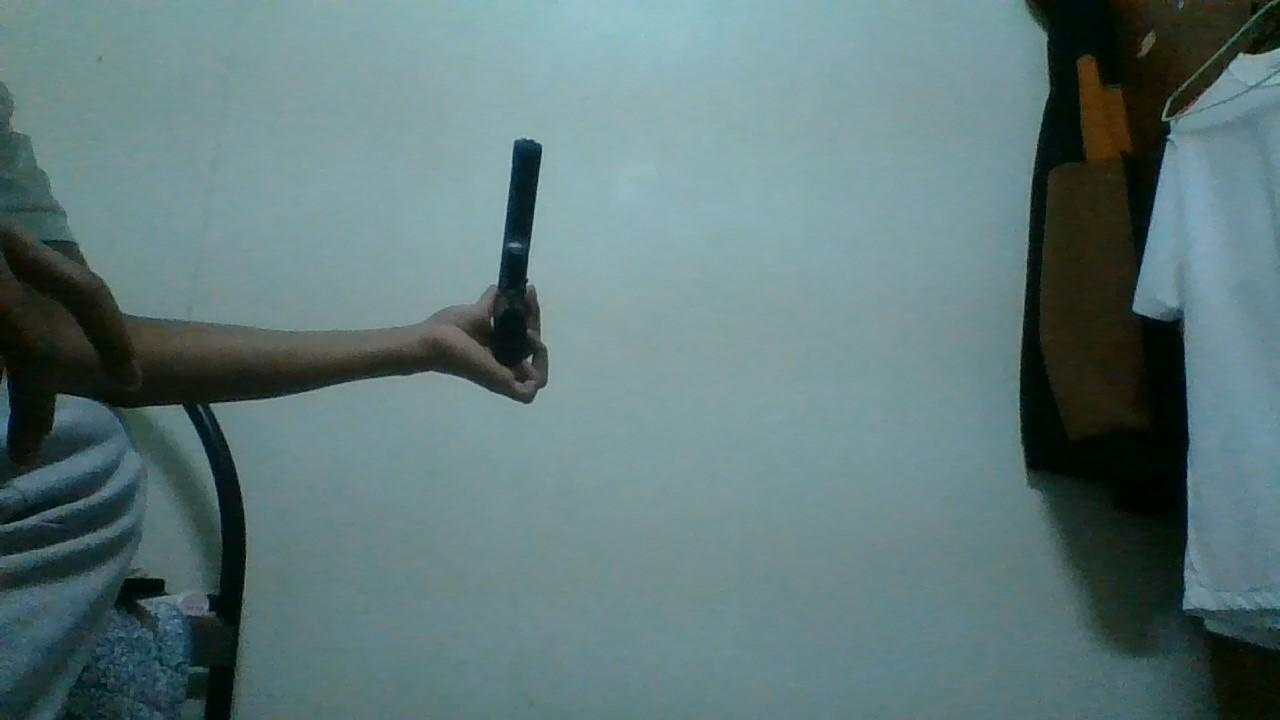weapon: (485, 132, 547, 371)
